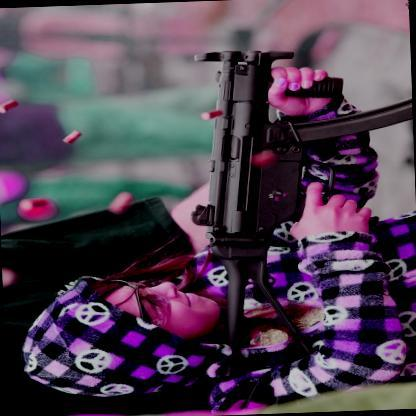rifle: (180, 42, 416, 379)
